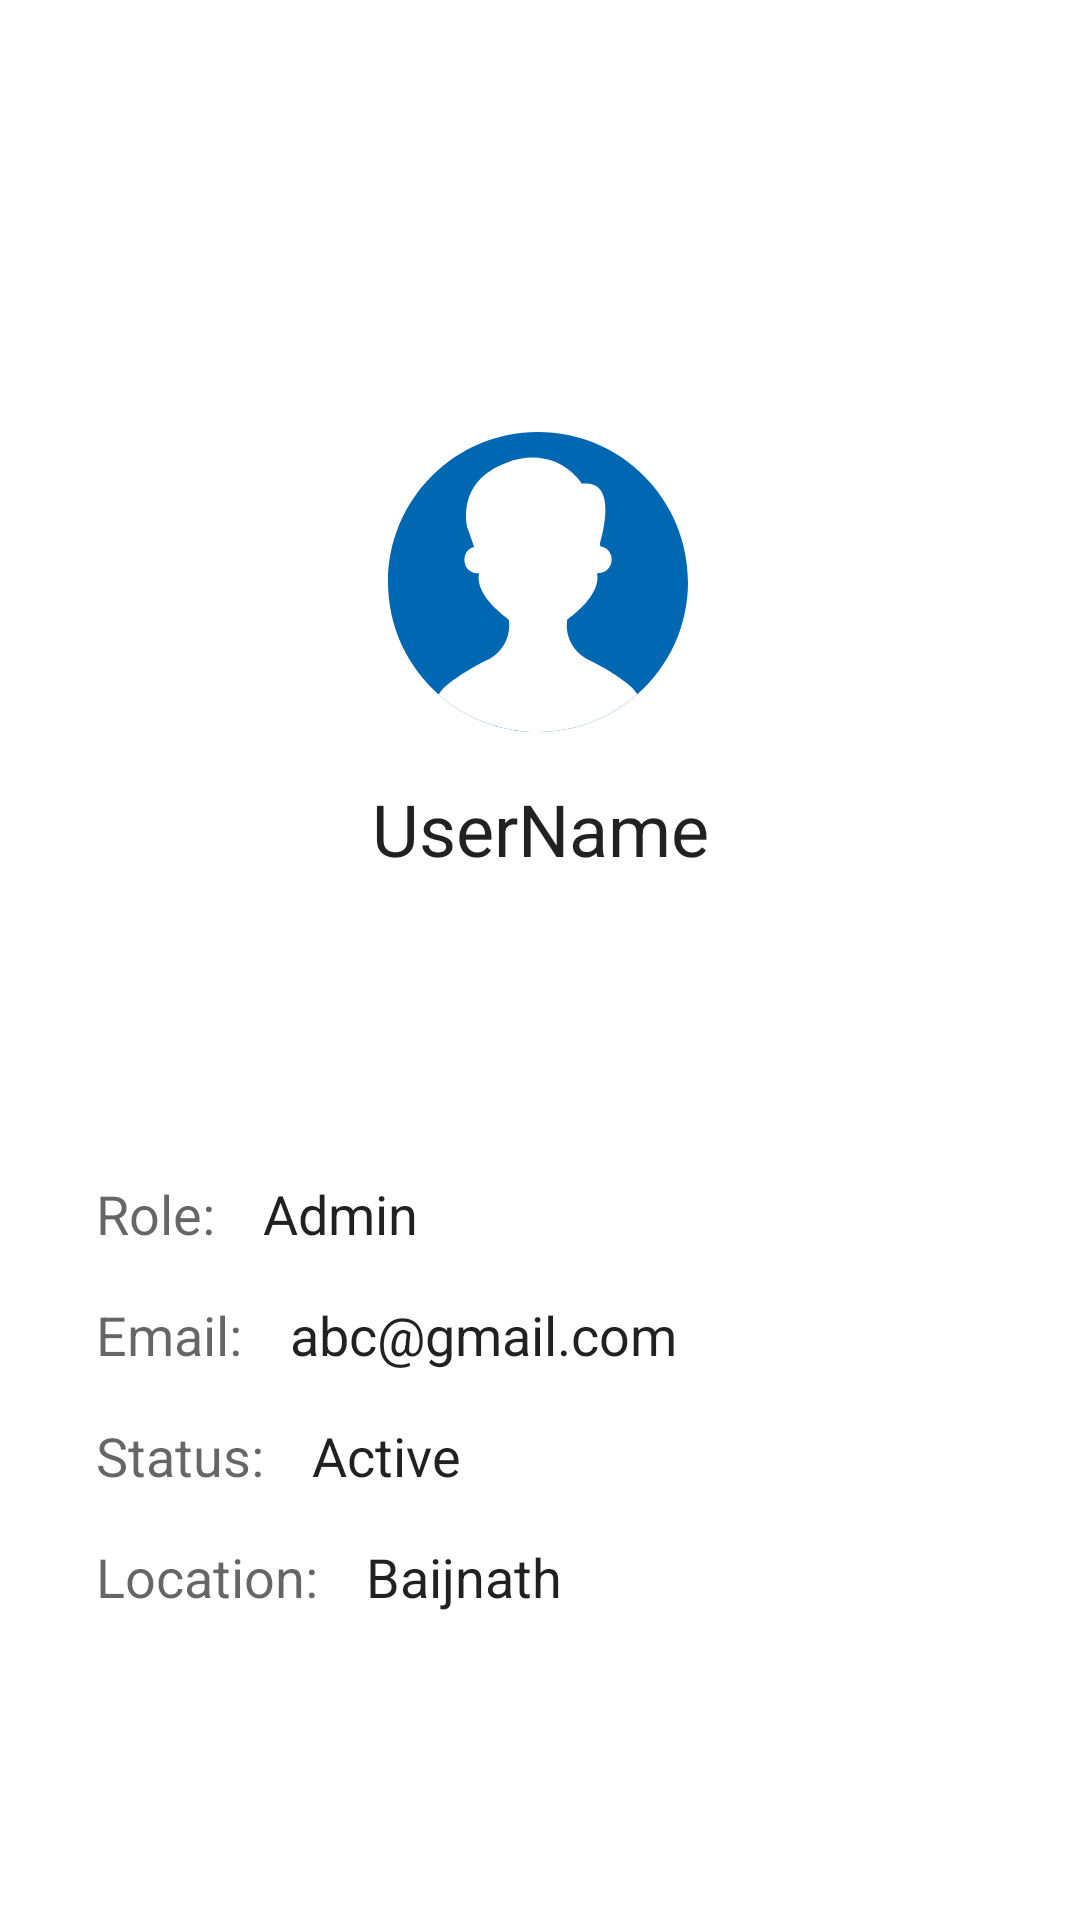

Icon bounding boxes for this 1080px×1920px phone screenshot, format box(x1, y1, x2, y2):
user profile: box(388, 432, 688, 732)
